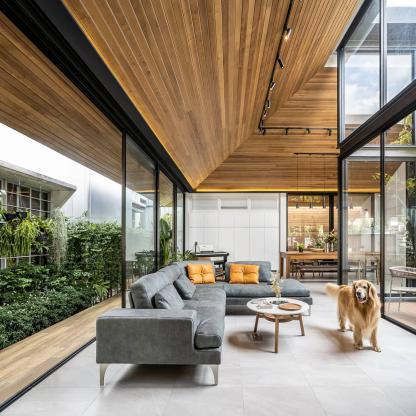bantal: (188, 263, 216, 284), (230, 264, 259, 283)
meja: (248, 294, 309, 350)
sova: (103, 257, 313, 389)
